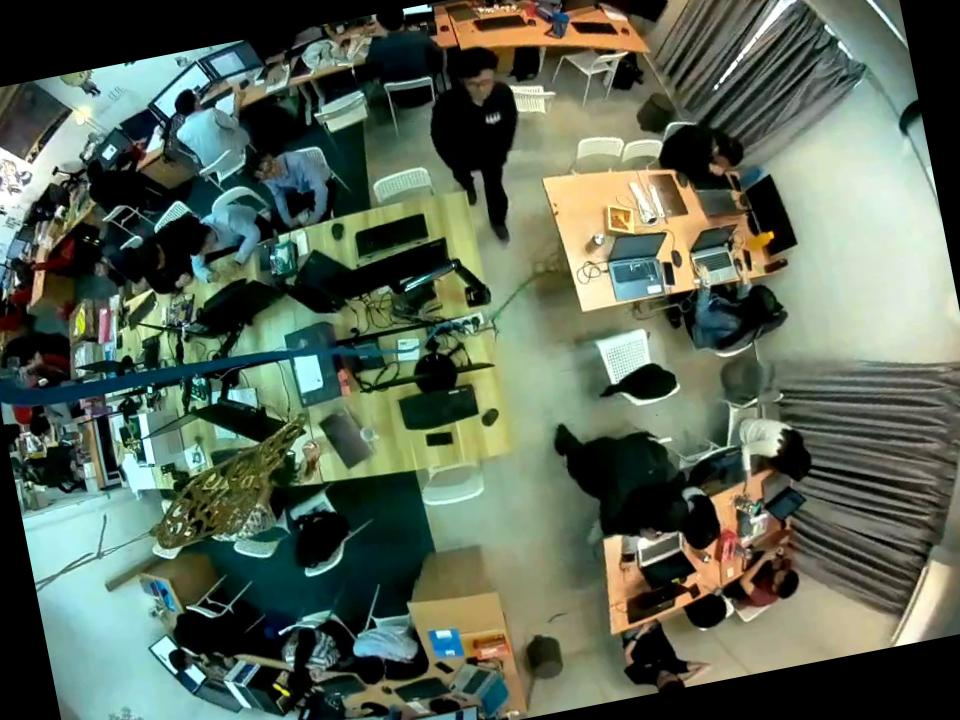employee_tag: (481, 108, 504, 126)
